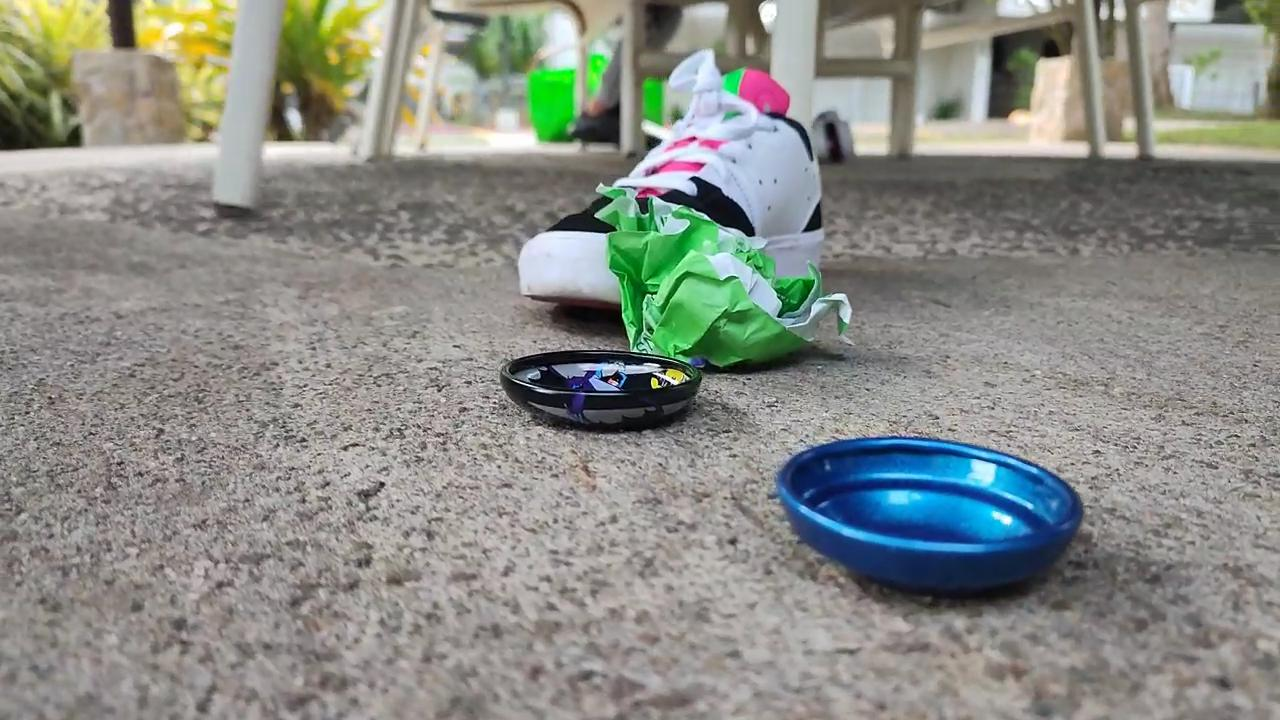Paper: (594, 188, 858, 368)
